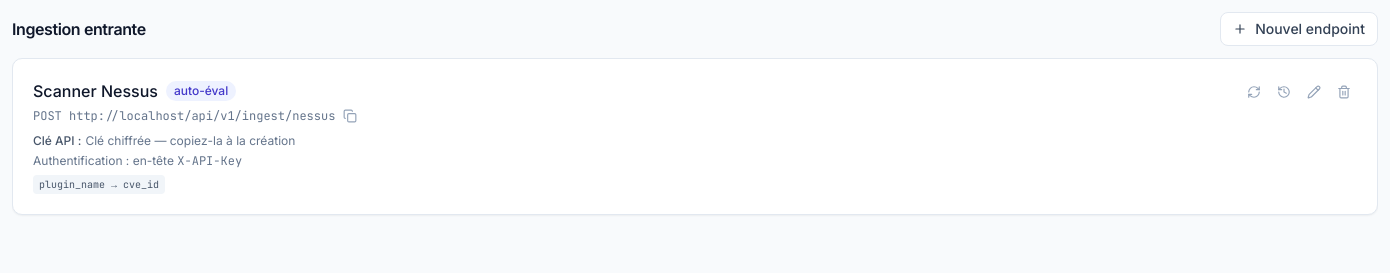
Test: IngestSection › déplie les logs à la demande
The width and height of the screenshot is (1390, 273).
Expected: the text "Scanner Nessus" is shown, [33,79,158,103]
Click the button named "Historique de Scanner Nessus". click: click(1284, 92)
box: [1271,79,1297,105]
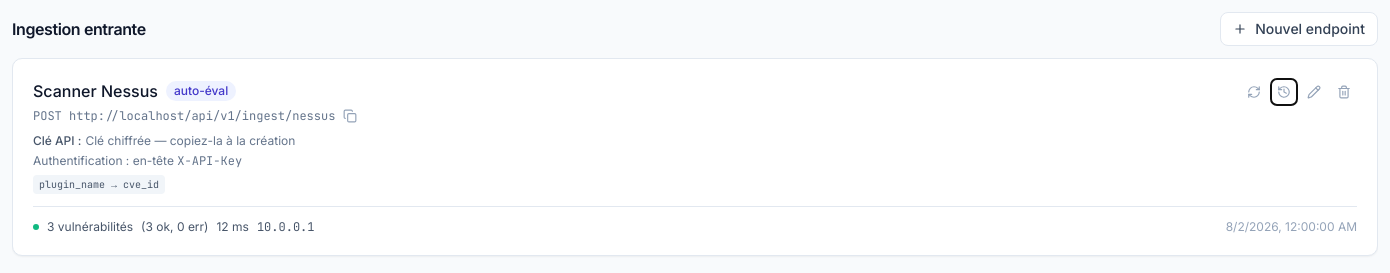
Expected: the text "3 vulnérabilités" is shown, [47,219,133,235]
